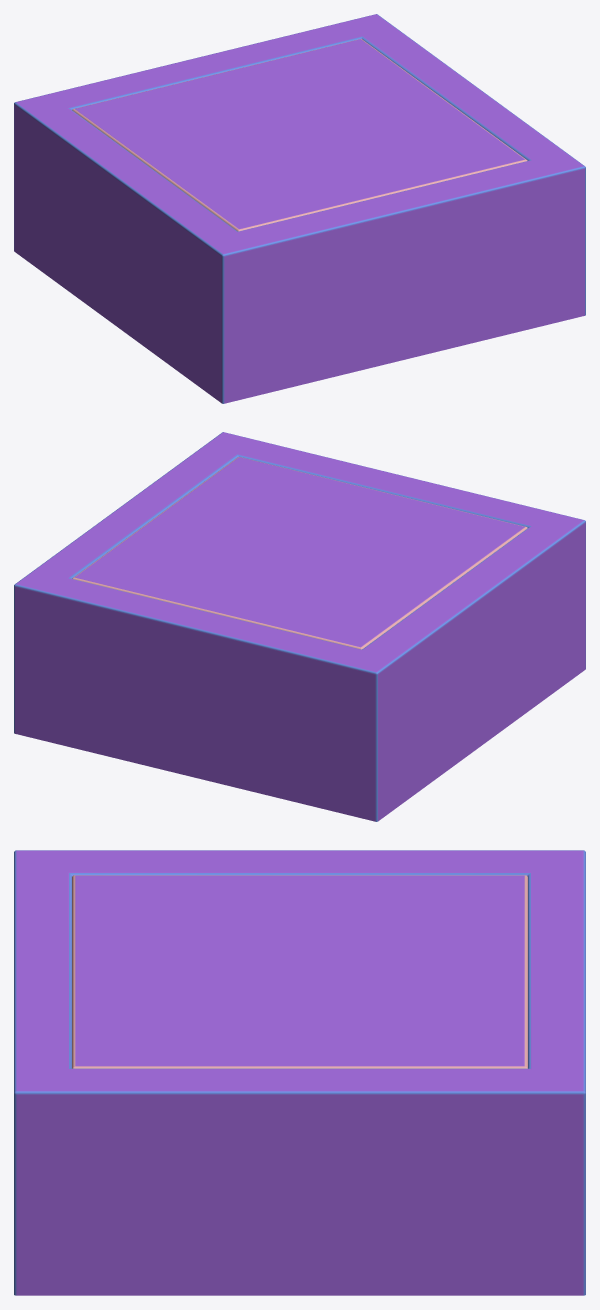
File: [arch] Mini-platform.fbx
The picture shows the model from 3 angles, top to bottom: view 1: azimuth 30°, elevation 25°; view 2: azimuth 150°, elevation 25°; view 3: azimuth 270°, elevation 25°; orthographic projection. The views are drawn at different scales.
Visible parts, largest first — view 1: Mini-platform_PHYS, Mini-platform_LOD0; view 2: Mini-platform_PHYS, Mini-platform_LOD0; view 3: Mini-platform_PHYS, Mini-platform_LOD0.
Part boxes in pixels (bbox=[...]): Mini-platform_PHYS: bbox=[14, 14, 584, 403]; Mini-platform_LOD0: bbox=[14, 14, 585, 403]; Mini-platform_PHYS: bbox=[15, 432, 585, 821]; Mini-platform_LOD0: bbox=[14, 432, 585, 821]; Mini-platform_PHYS: bbox=[16, 850, 583, 1295]; Mini-platform_LOD0: bbox=[14, 850, 585, 1295].
Size of what is drawn, in the model's own units: 384 by 150 by 383.
